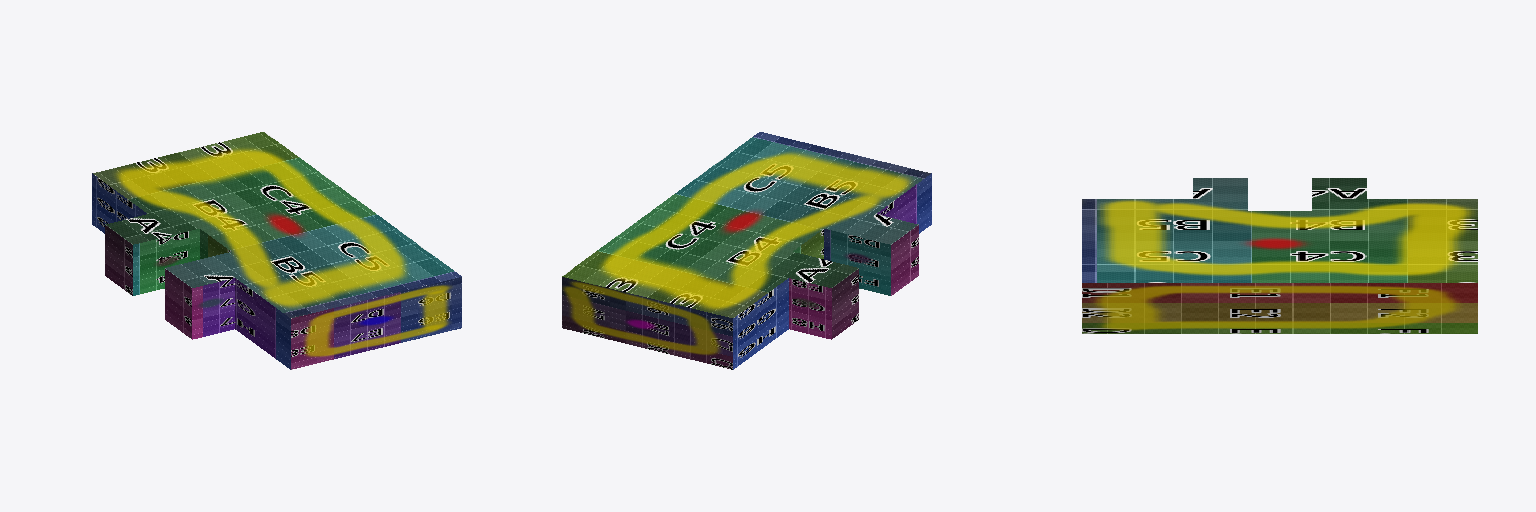
3 renders of one model, left to right at view 1: azimuth 30°, elevation 25°; view 2: azimuth 150°, elevation 25°; view 3: azimuth 270°, elevation 25°, orthographic.
Parts seen in each view (by area): view 1: Cube_Cube.003; view 2: Cube_Cube.003; view 3: Cube_Cube.003.
Part boxes in pixels (x1,y1,x2,y2): Cube_Cube.003: (92, 132, 461, 369); Cube_Cube.003: (562, 132, 931, 369); Cube_Cube.003: (1082, 178, 1477, 333).
Size of the model in its own units: 4.38 by 1 by 7.
1 materials, 1 textured.